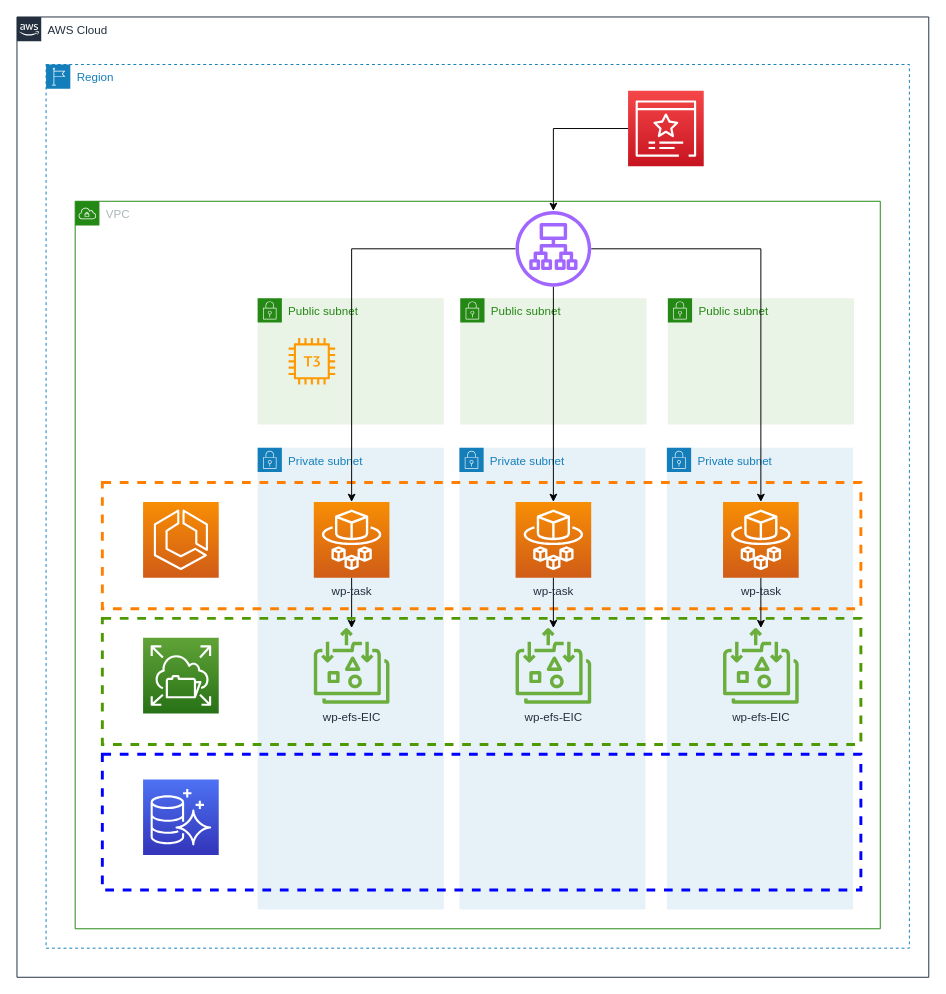
This 946x994 diagram has some shape labels left out. Here are the shapes that lost their labels. From the top down, the centre of each, then its label:
At point 665,128: "SSL Certificate".
At point 311,361: "service-instance".
At point 180,539: "ECS wp-service".
At point 180,675: "wp-efs".
At point 180,816: "wp-table (serverless)".
